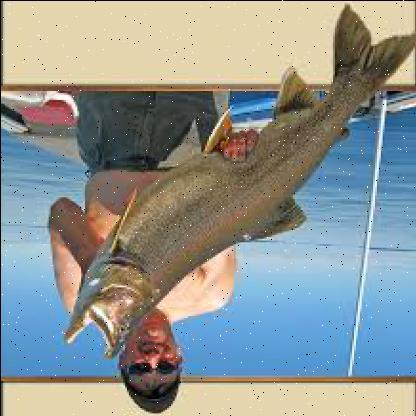fish: (62, 10, 415, 361)
